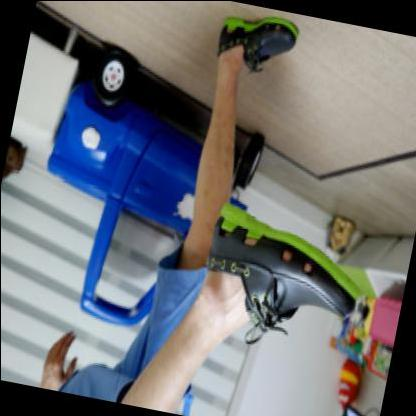no_safety-shoe: (177, 178, 383, 369), (193, 1, 314, 91)
